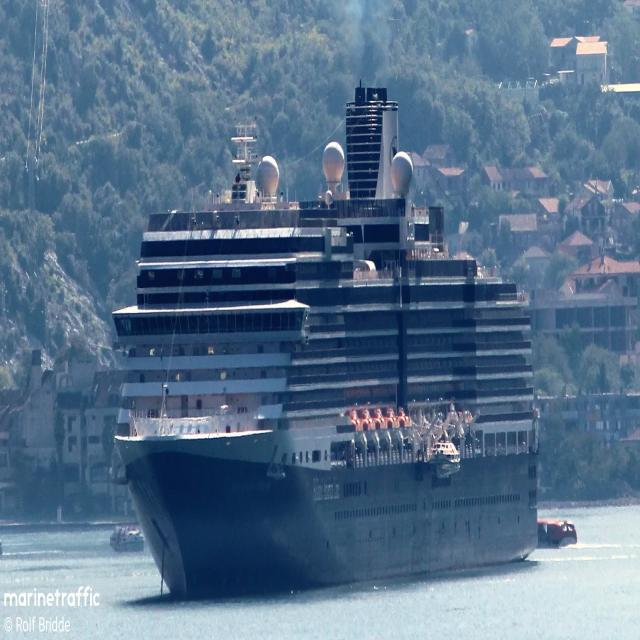Cruise: (113, 88, 537, 596)
